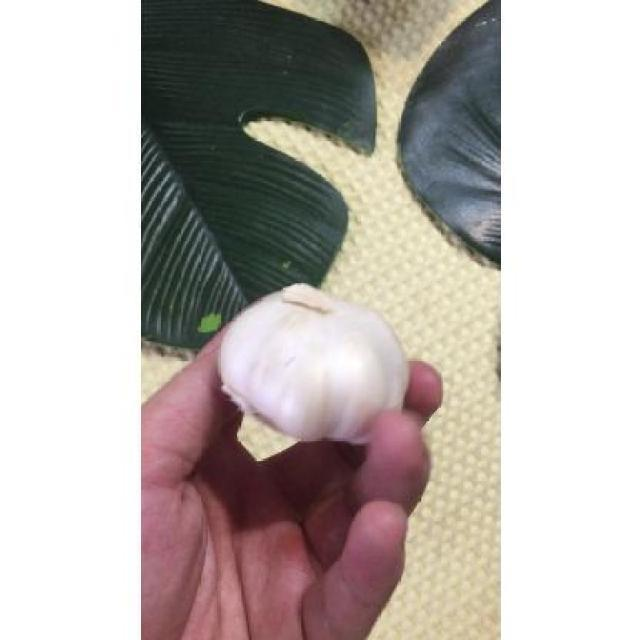garlic: (220, 284, 408, 442)
